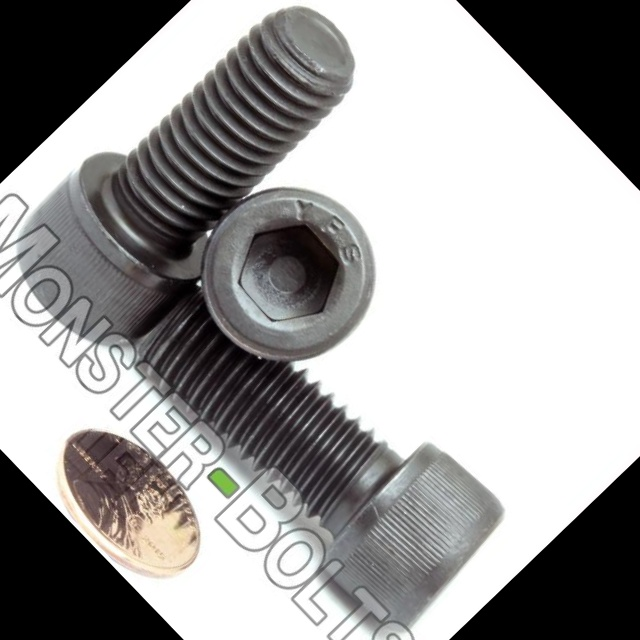allen: (218, 201, 360, 343)
